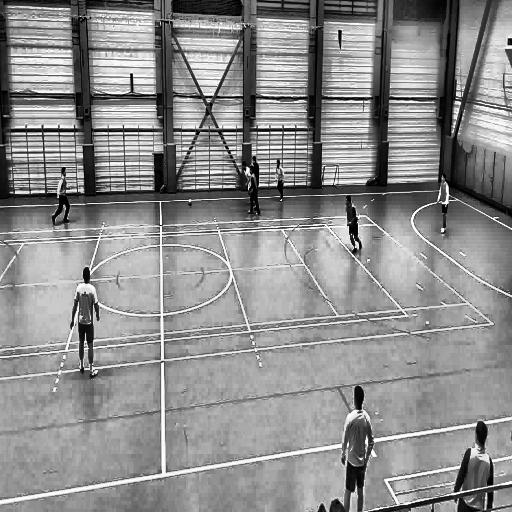ball: (186, 197, 192, 209)
player: (341, 385, 374, 512), (69, 266, 100, 383), (50, 165, 71, 229), (344, 192, 363, 257), (435, 173, 449, 236), (247, 164, 261, 218), (274, 156, 284, 208), (243, 160, 251, 197), (254, 155, 260, 191)
